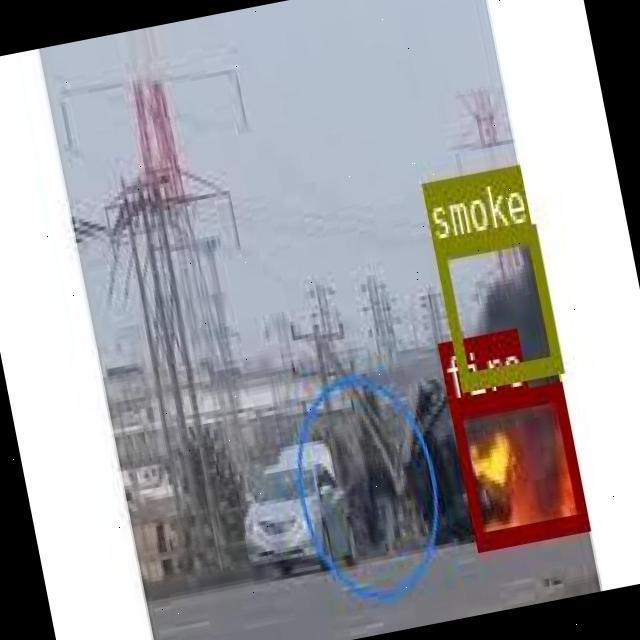fire: (447, 379, 587, 546)
smoke: (432, 222, 560, 390)
